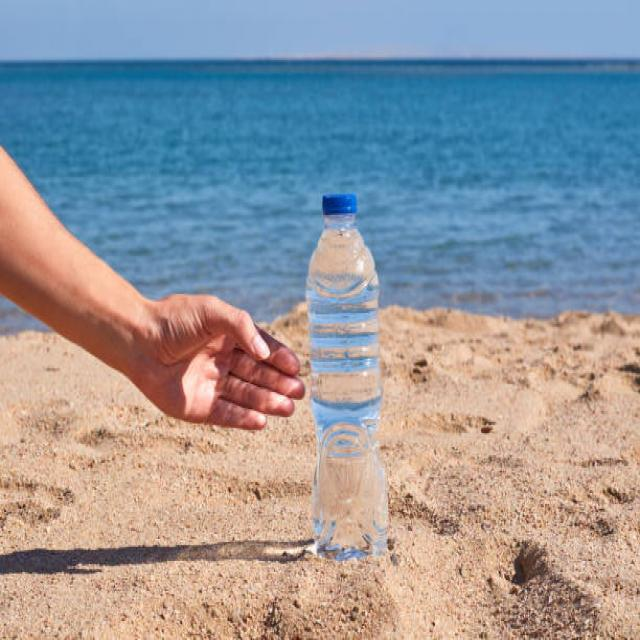plastic: (309, 192, 384, 552)
